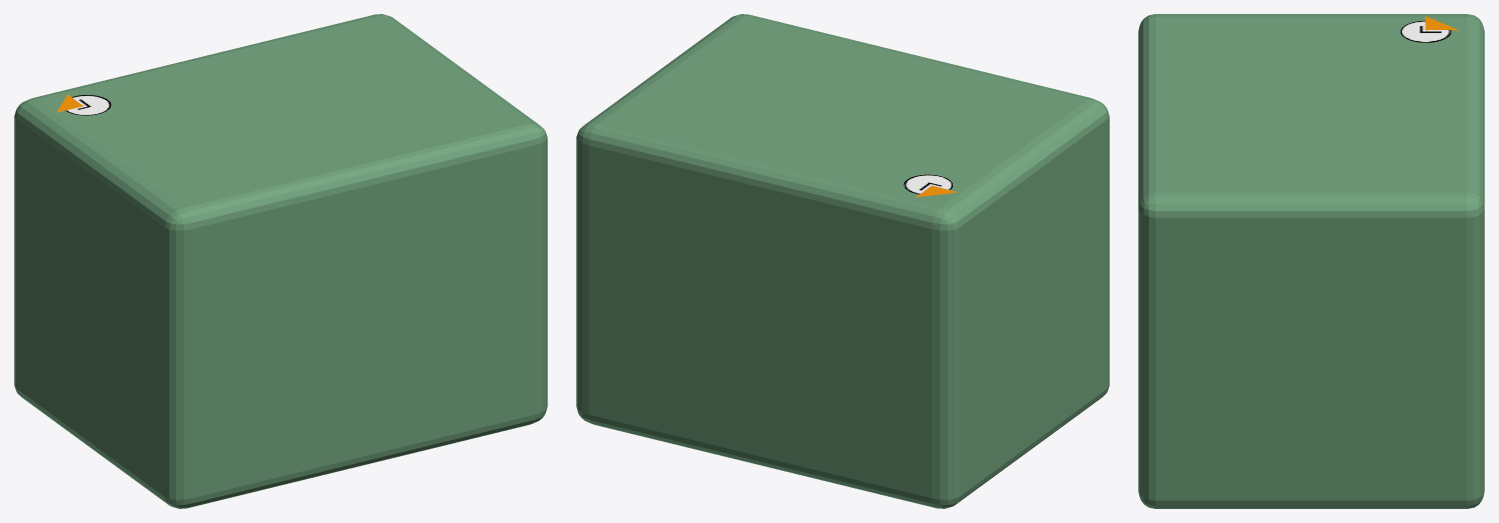
File: StateGELB.dae
The picture shows the model from 3 angles, left to right: view 1: azimuth 30°, elevation 25°; view 2: azimuth 150°, elevation 25°; view 3: azimuth 270°, elevation 25°; orthographic projection. The views are drawn at different scales.
Visible parts, largest first — view 1: Cube, Plane; view 2: Cube, Plane; view 3: Cube, Plane.
Part boxes in pixels (bbox=[...]): Cube: bbox=[14, 14, 547, 508]; Plane: bbox=[56, 94, 111, 115]; Cube: bbox=[576, 14, 1109, 508]; Plane: bbox=[903, 174, 957, 197]; Cube: bbox=[1138, 14, 1484, 508]; Plane: bbox=[1400, 16, 1458, 42].
Size of the model in its own units: 2 by 1.5 by 1.5.
Materials: 2 (1 with a texture image).
